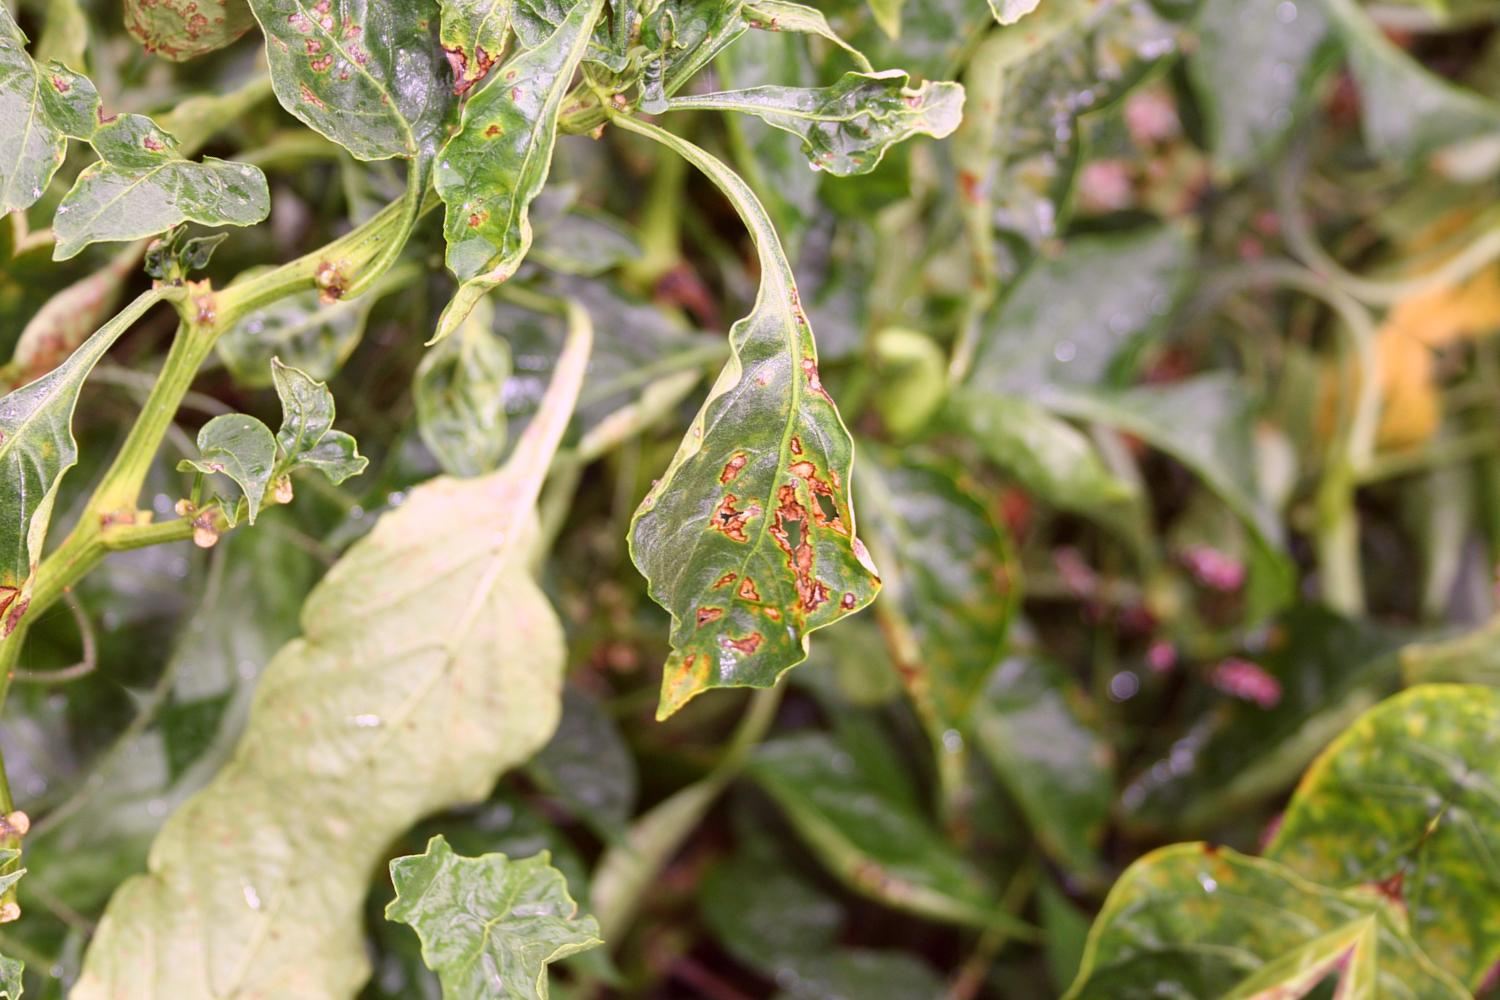Tomato leaf bacterial spot: (483, 216, 1029, 800), (928, 752, 1380, 1000), (362, 0, 681, 332), (173, 0, 511, 182)
